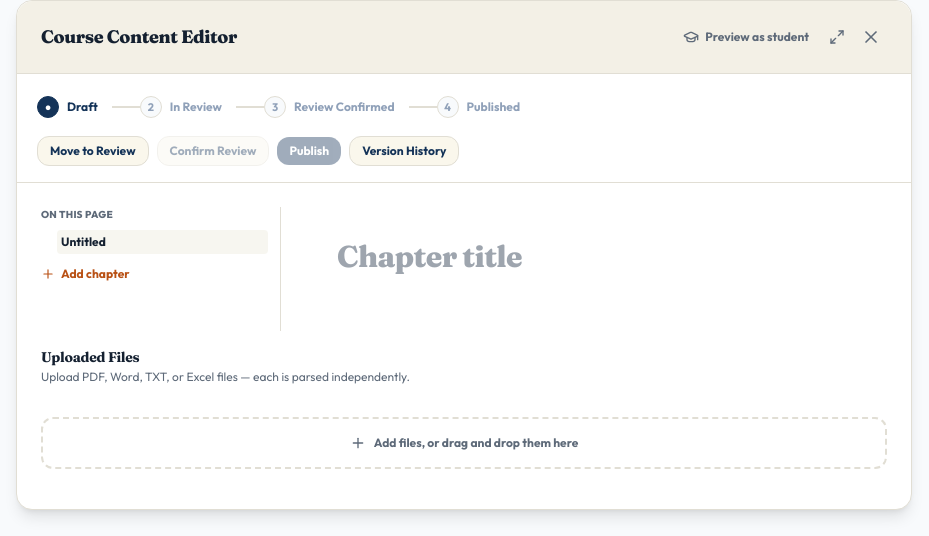
CourseContentEditor -- Topic/Sub-Topic structure (Story 7.2) › offers the "warning" query as the Warning panel command
This screenshot has width=929, height=536.
In the field: (592, 269) [337, 239, 847, 299], type "/warning"
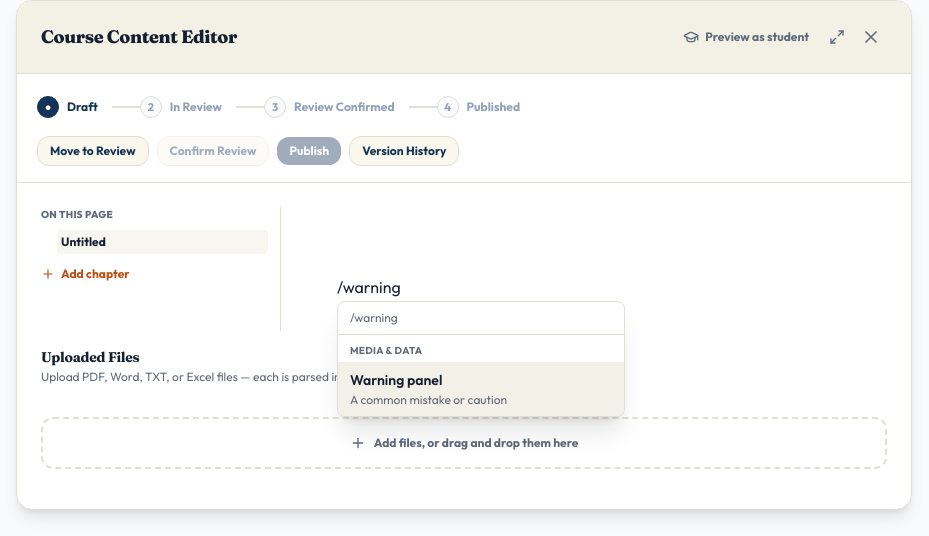
Check: the text "Warning panel" is shown, box [350, 370, 442, 390]
